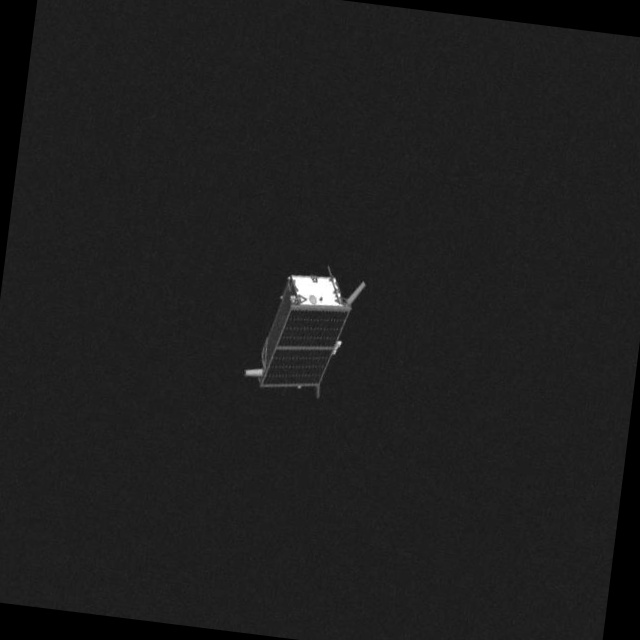medium_debris: (232, 247, 368, 408)
